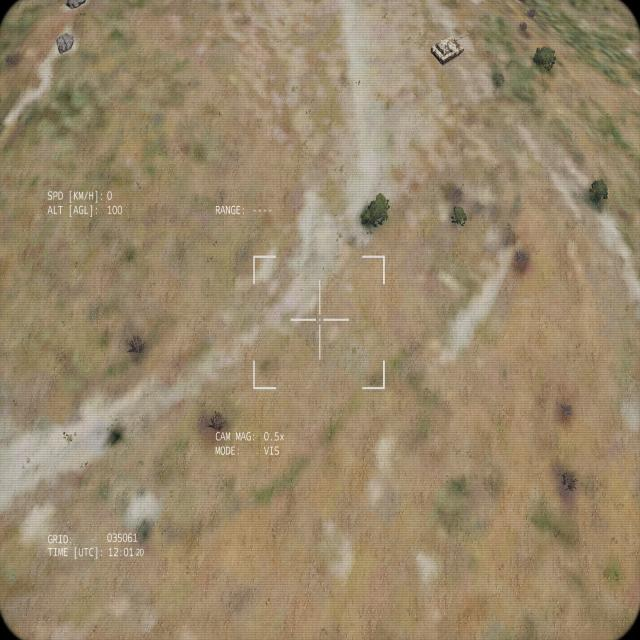tank: (429, 30, 468, 65)
